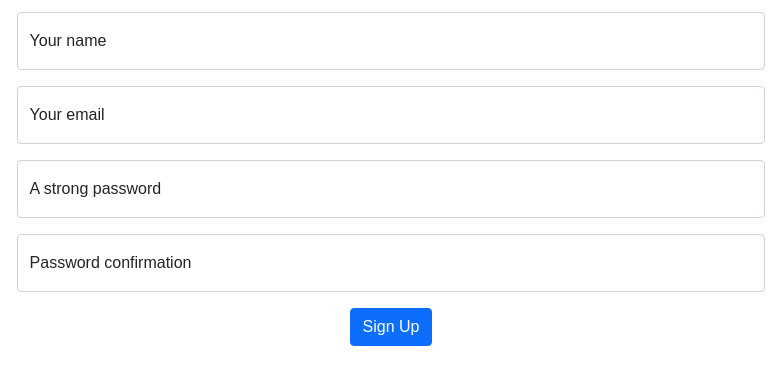
it: SignUpForm › form validations › shows password does not match error when passwords dont match
Type "testtter" into the field labelled "Your name".
click(391, 41); type("testtter")  # box [17,12,765,70]
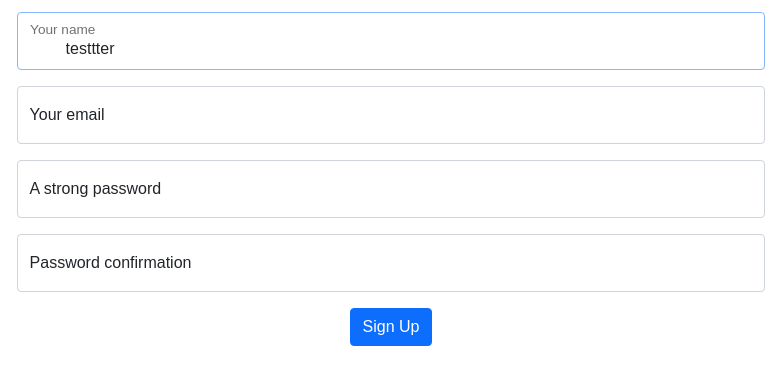
Type "adsf@fads.com" into the field labelled "Your email".
click(391, 115); type("adsf@fads.com")  # box [17,86,765,144]
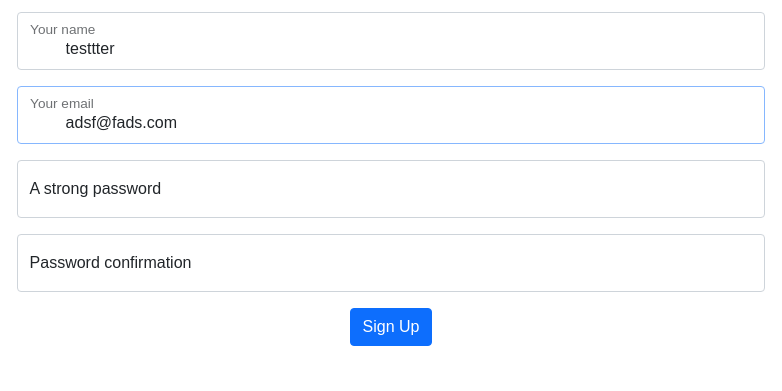
Type "123456" into the password field labelled "A strong password".
click(391, 189); type("123456")  # box [17,160,765,218]
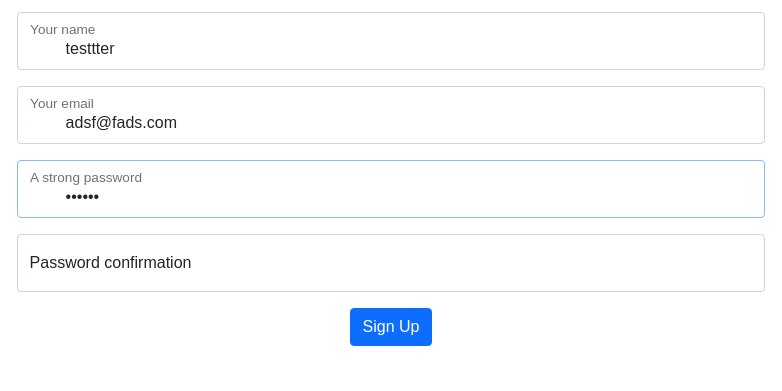
Type "12345677" into the password field labelled "Password confirmation".
click(391, 263); type("12345677")  # box [17,234,765,292]
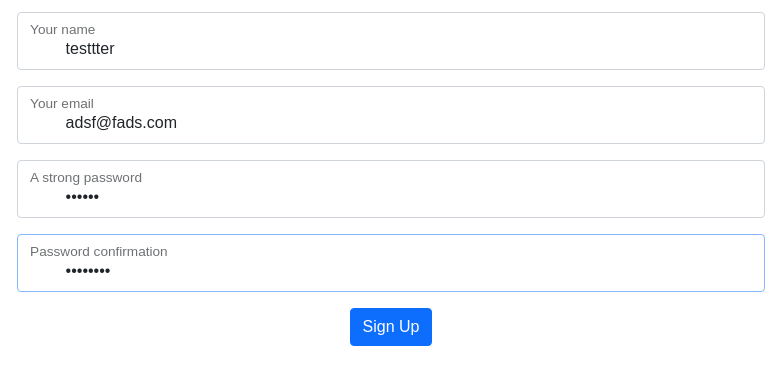
Click the button "Sign Up".
click(391, 327)  # box [350,308,432,346]
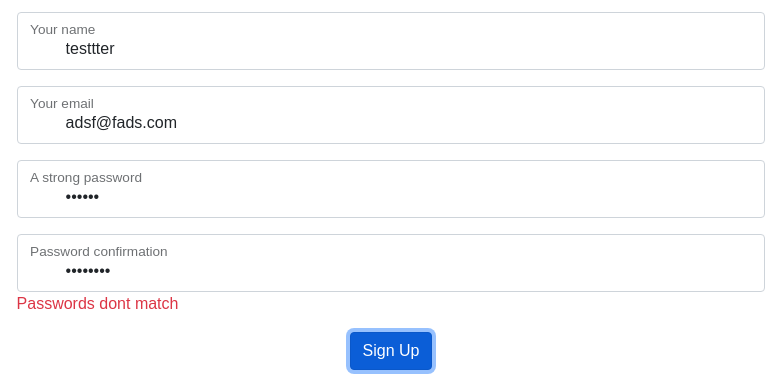
Check: the text "Passwords dont match" is shown, box [17,295,178,312]
